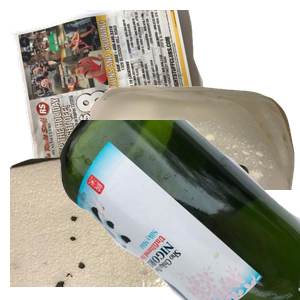glass: (60, 120, 300, 300)
paper: (10, 10, 210, 175)
plastic: (90, 82, 300, 262)
trash: (10, 120, 250, 300)
